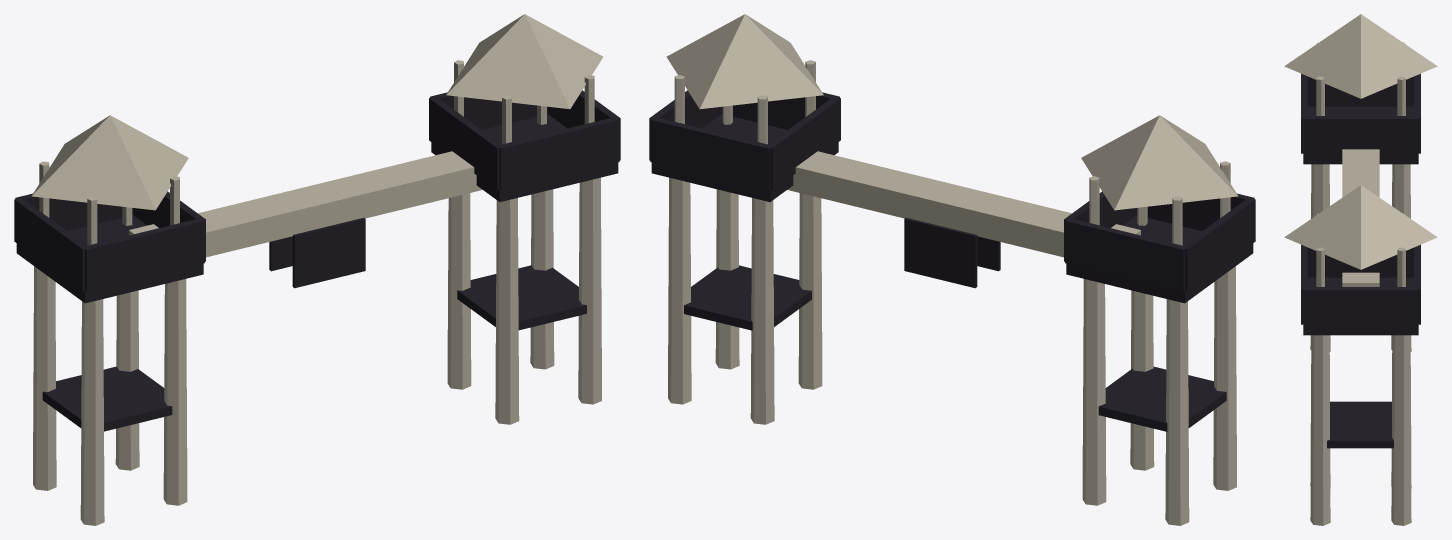
File: horde_gate.glb
3 views of the same model, side by side, from view 1: azimuth 30°, elevation 25°; view 2: azimuth 150°, elevation 25°; view 3: azimuth 270°, elevation 25° (orthographic). The views are drawn at different scales.
Visible parts, largest first — view 1: horde_gate; view 2: horde_gate; view 3: horde_gate.
Boxes of the visible parts, x1,y1,x2,y2 form: horde_gate: (14,14,620,525); horde_gate: (649,14,1255,525); horde_gate: (1284,14,1437,525).
Size of the model in its own units: 4.83 by 3.05 by 1.33.
